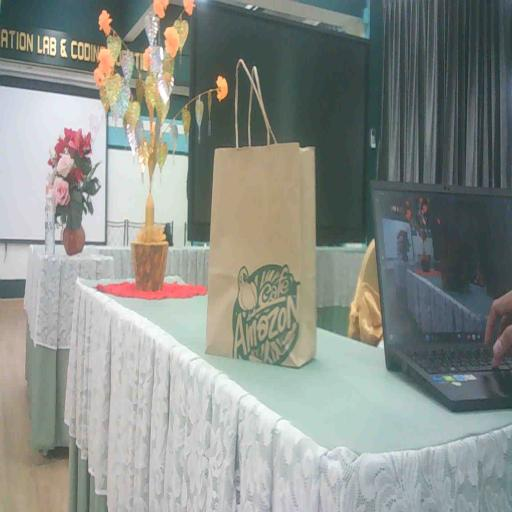bag: (196, 140, 328, 384)
